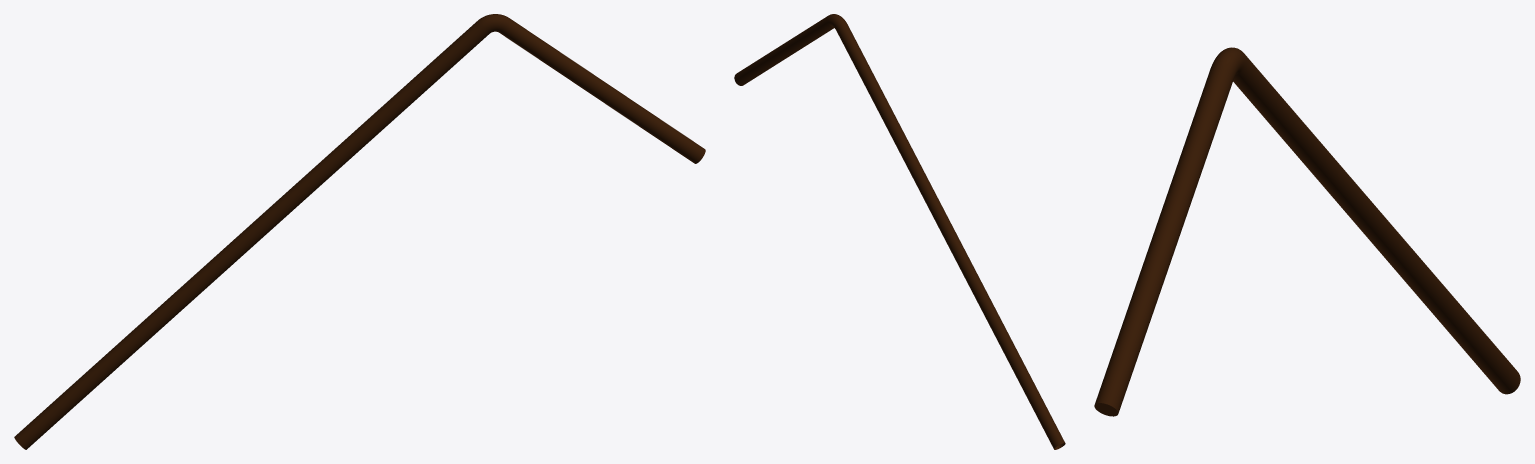
The model's file is pata1Bac.obj.
3 renders of one model, left to right at view 1: azimuth 30°, elevation 25°; view 2: azimuth 150°, elevation 25°; view 3: azimuth 270°, elevation 25°, orthographic. The views are drawn at different scales.
Visible parts, largest first — view 1: Cylinder.005_Material.010; view 2: Cylinder.005_Material.010; view 3: Cylinder.005_Material.010.
Part boxes in pixels (x1,y1,x2,y2): Cylinder.005_Material.010: (14, 14, 705, 449); Cylinder.005_Material.010: (734, 14, 1065, 449); Cylinder.005_Material.010: (1094, 47, 1520, 416).
Size of the model in its own units: 1.84 by 1.28 by 0.792.
